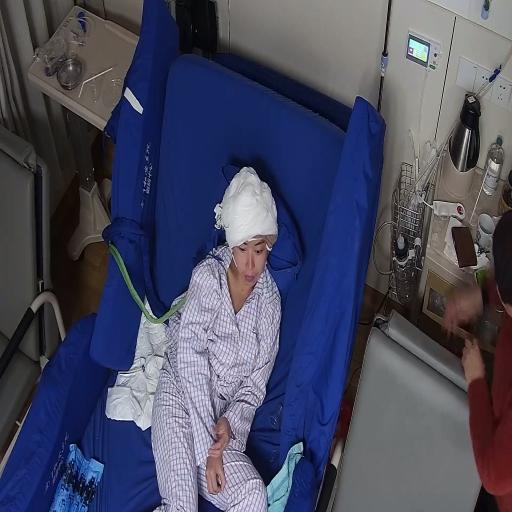Netural: (218, 193, 277, 287)
